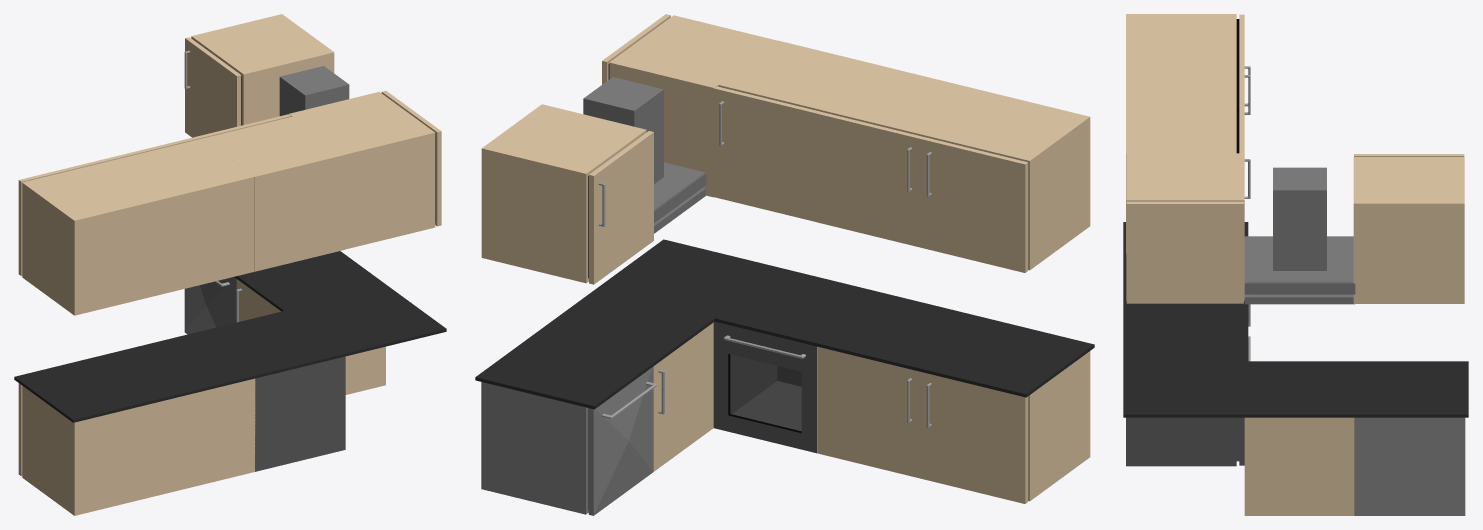
File: Kitchen Area.fbx
3 views of the same model, side by side, from view 1: azimuth 30°, elevation 25°; view 2: azimuth 150°, elevation 25°; view 3: azimuth 270°, elevation 25° (orthographic). The views are drawn at different scales.
Visible parts, largest first — view 1: pCube89, pCube81, pCube92, pCube73, pCube91, pCube86, pCube84, pCube82, pCube71, pCube75, pCube77, pCube83 (+1 smaller); view 2: pCube84, pCube89, pCube82, pCube81, pCube79, pCube73, pCube91, pCube86, pCube92, pCube71, pCube75, pCube77 (+1 smaller); view 3: pCube82, pCube92, pCube84, pCube83, pCube79, pCube77, pCube81, pCube75, pCube91, pCube86, pCube89.
Part boxes in pixels (x1,y1,x2,y2): pCube89: (18, 158, 165, 315); pCube81: (14, 311, 415, 422); pCube92: (289, 90, 441, 249); pCube73: (18, 383, 165, 515); pCube91: (199, 114, 345, 271); pCube86: (109, 136, 254, 293); pCube84: (185, 14, 334, 137); pCube82: (234, 251, 446, 353); pCube71: (164, 378, 255, 493); pCube75: (255, 356, 345, 471); pCube77: (236, 279, 385, 394); pCube83: (279, 66, 349, 116); pCube84: (481, 104, 653, 284); pCube89: (921, 91, 1090, 272); pCube82: (475, 239, 782, 409); pCube81: (714, 268, 1094, 397); pCube79: (481, 366, 653, 515); pCube73: (921, 351, 1090, 503); pCube91: (713, 40, 882, 222); pCube86: (817, 66, 985, 247); pCube92: (602, 14, 777, 197); pCube71: (817, 346, 921, 478); pCube75: (713, 321, 817, 453); pCube77: (653, 322, 713, 471); pCube82: (1123, 361, 1468, 417); pCube92: (1126, 153, 1244, 303); pCube84: (1353, 154, 1464, 303); pCube83: (1244, 167, 1355, 304); pCube79: (1354, 417, 1465, 515); pCube77: (1244, 417, 1354, 515); pCube81: (1123, 222, 1248, 361); pCube75: (1126, 417, 1244, 466); pCube91: (1126, 107, 1244, 253); pCube86: (1126, 60, 1244, 111); pCube89: (1126, 14, 1244, 65).
Size of the model in its own units: 6.1 by 4.63 by 4.62.
